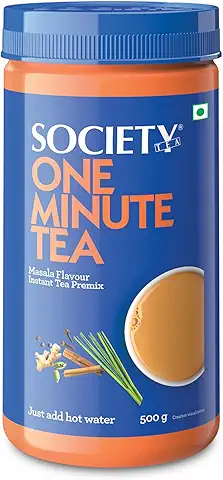Tea: (8, 5, 223, 480)
